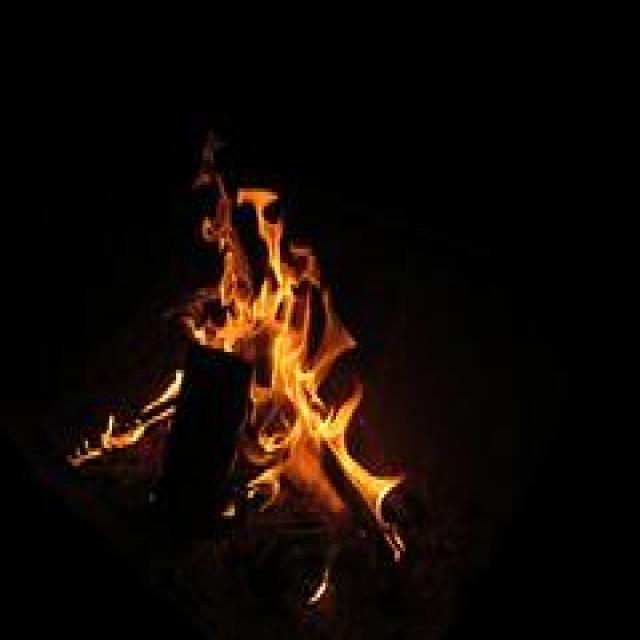fire: (71, 151, 412, 578)
